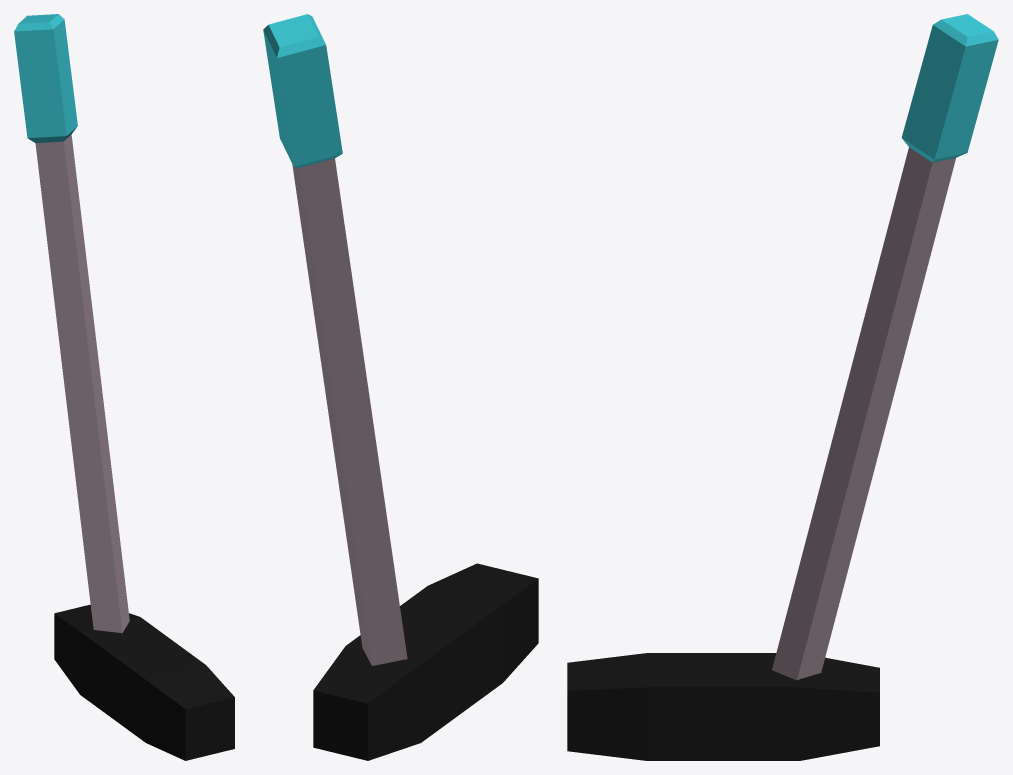
The model's file is Golf Club.fbx.
3 renders of one model, left to right at view 1: azimuth 30°, elevation 25°; view 2: azimuth 150°, elevation 25°; view 3: azimuth 270°, elevation 25°, orthographic. The views are drawn at different scales.
Parts seen in each view (by area): view 1: Golf Club; view 2: Golf Club; view 3: Golf Club.
Boxes of the visible parts, <box> form: Golf Club: <box>14,14,234,760</box>; Golf Club: <box>263,14,538,760</box>; Golf Club: <box>567,14,998,760</box>.
Size of the model in its own units: 0.0585 by 0.5751 by 0.3105.
